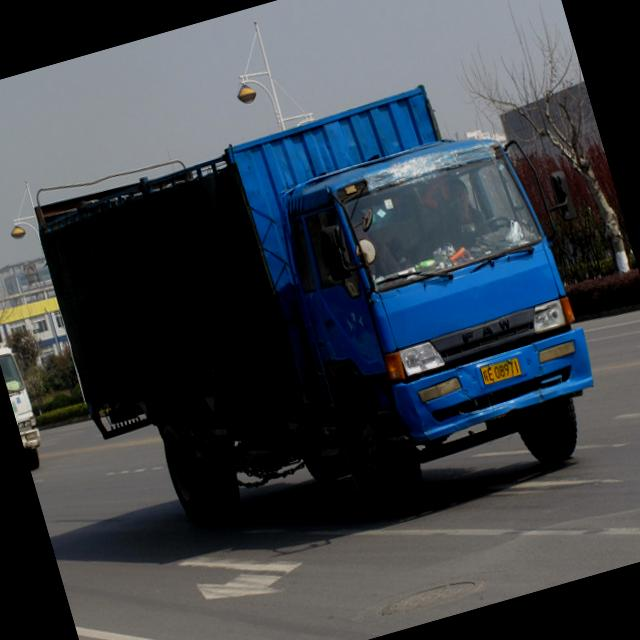Vehicle: (25, 59, 620, 594), (0, 341, 50, 469)
